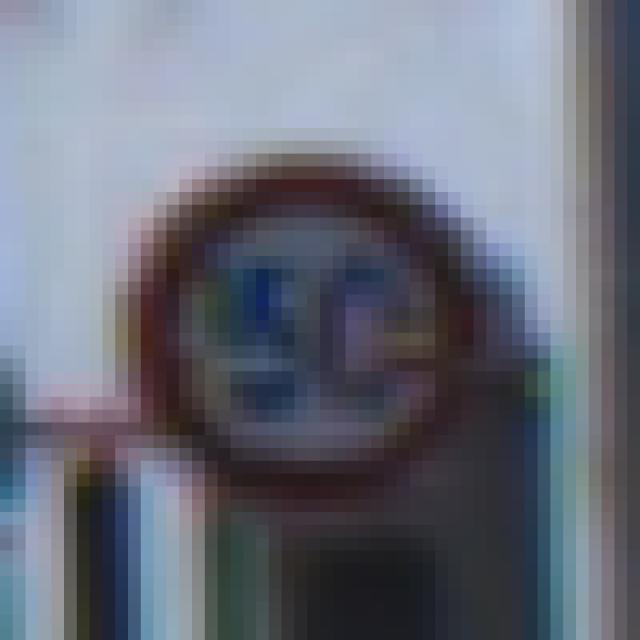Limite-50: (127, 153, 499, 514)
